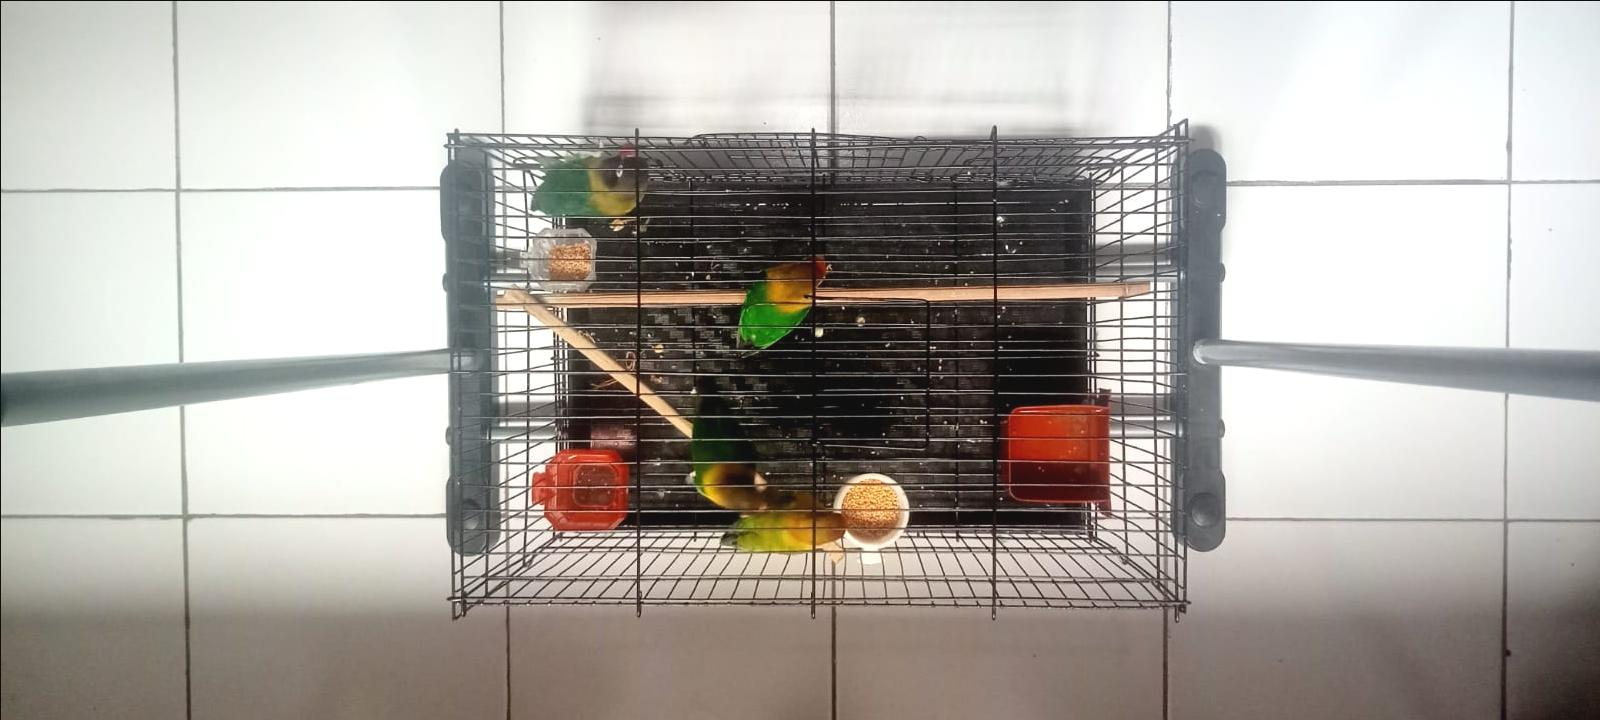LoveBird: (690, 370, 771, 512), (735, 250, 826, 358), (529, 143, 646, 215), (720, 490, 848, 555)
